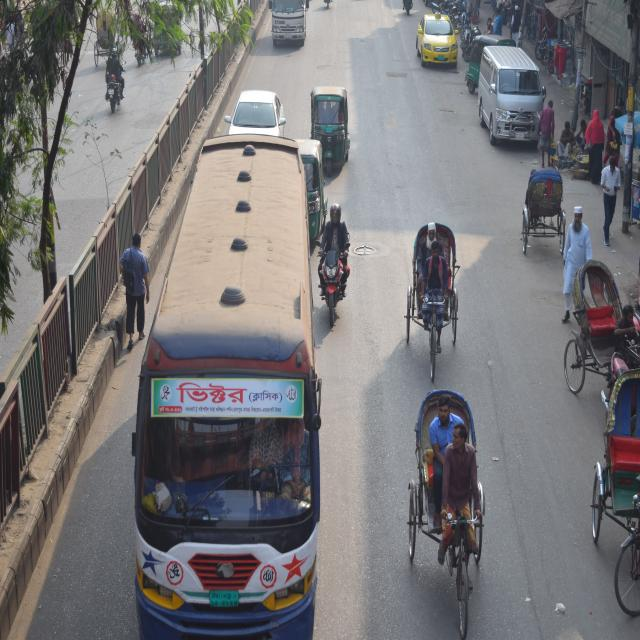bus: (136, 128, 322, 604), (273, 4, 306, 41)
car: (230, 89, 282, 138), (420, 5, 454, 78)
microbus: (471, 23, 544, 150)
motorbike: (320, 202, 354, 314), (104, 44, 144, 122)
